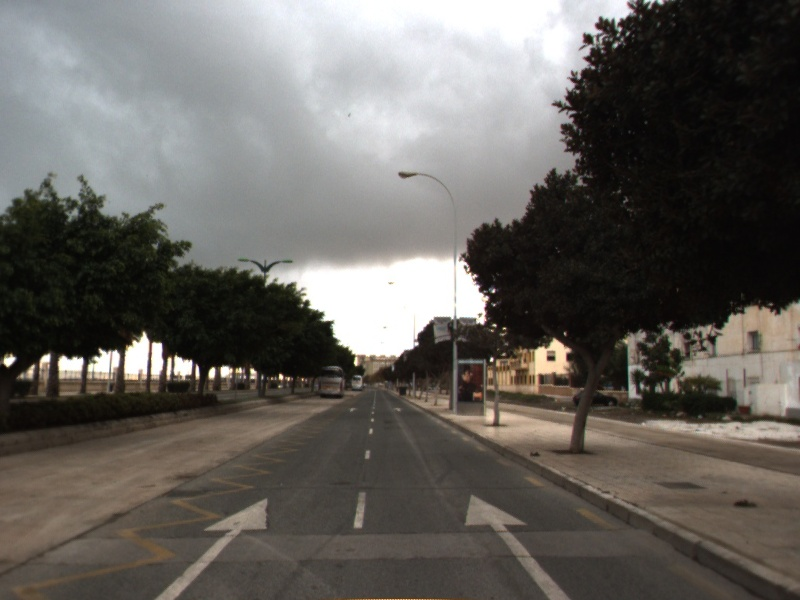STRAIGHT: (151, 493, 271, 600), (463, 491, 573, 600)
